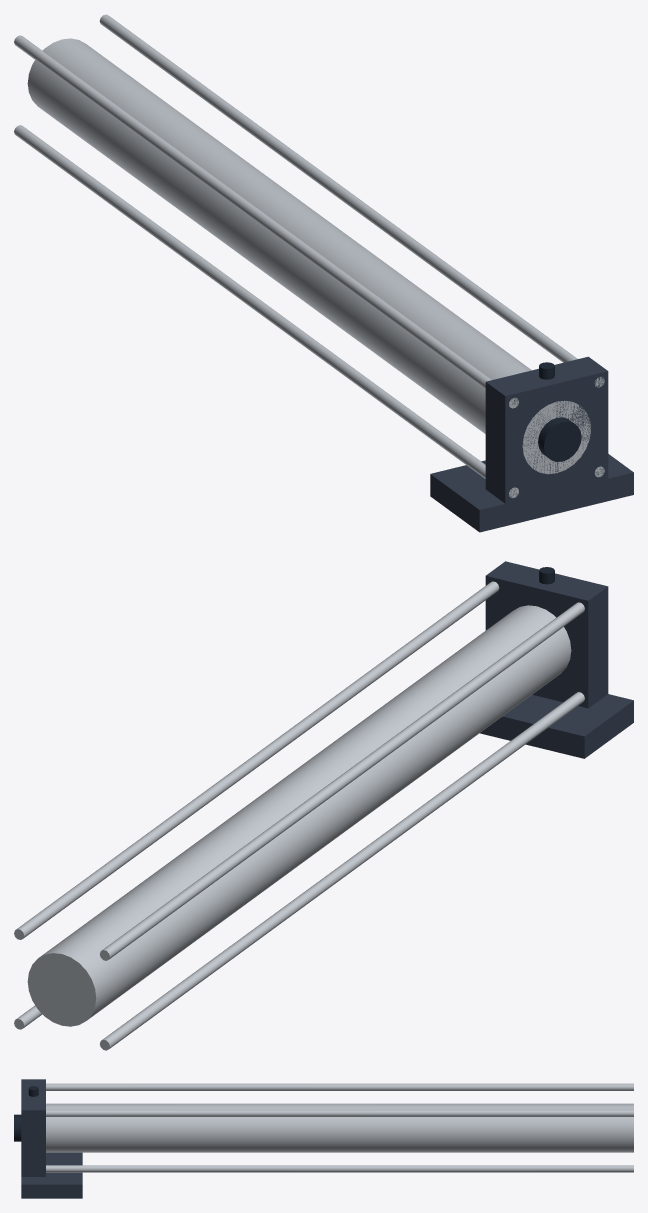
Rendered from pusher.glb.
The picture shows the model from 3 angles, top to bottom: view 1: azimuth 30°, elevation 25°; view 2: azimuth 150°, elevation 25°; view 3: azimuth 270°, elevation 25°; orthographic projection. The views are drawn at different scales.
Parts seen in each view (by area): view 1: barrel, tie_rods, front_cap, foot; view 2: barrel, tie_rods, front_cap, foot; view 3: barrel, tie_rods, front_cap, foot.
Boxes of the visible parts, x1=… form: barrel: x1=27, y1=38, x2=590, y2=474; tie_rods: x1=14, y1=14, x2=604, y2=498; front_cap: x1=485, y1=356, x2=608, y2=503; foot: x1=430, y1=454, x2=633, y2=532; barrel: x1=27, y1=605, x2=571, y2=1026; tie_rods: x1=14, y1=581, x2=584, y2=1050; front_cap: x1=485, y1=561, x2=608, y2=708; foot: x1=480, y1=694, x2=633, y2=758; barrel: x1=46, y1=1103, x2=633, y2=1152; tie_rods: x1=46, y1=1083, x2=633, y2=1172; front_cap: x1=14, y1=1079, x2=45, y2=1176; foot: x1=21, y1=1152, x2=82, y2=1198.
Size of the model in its own units: 0.18 by 0.157 by 1.01.
